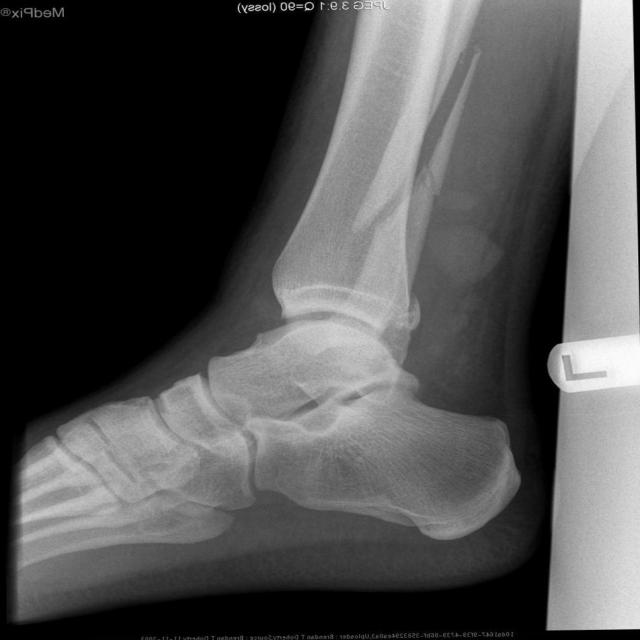Oblique Displaced: (352, 54, 474, 263)
